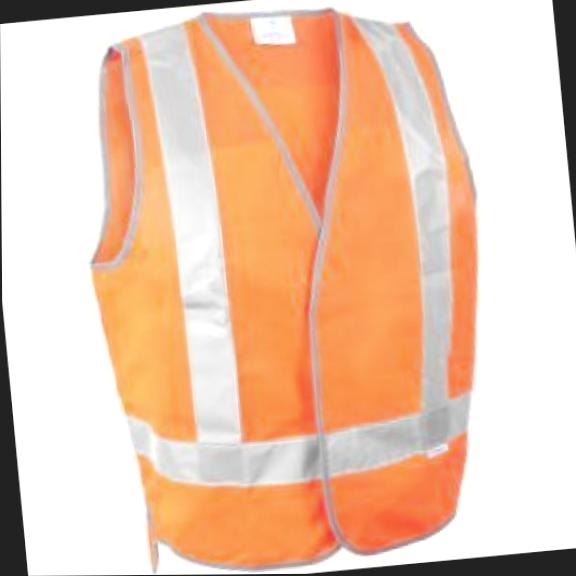safety_vest: (66, 0, 512, 576)
